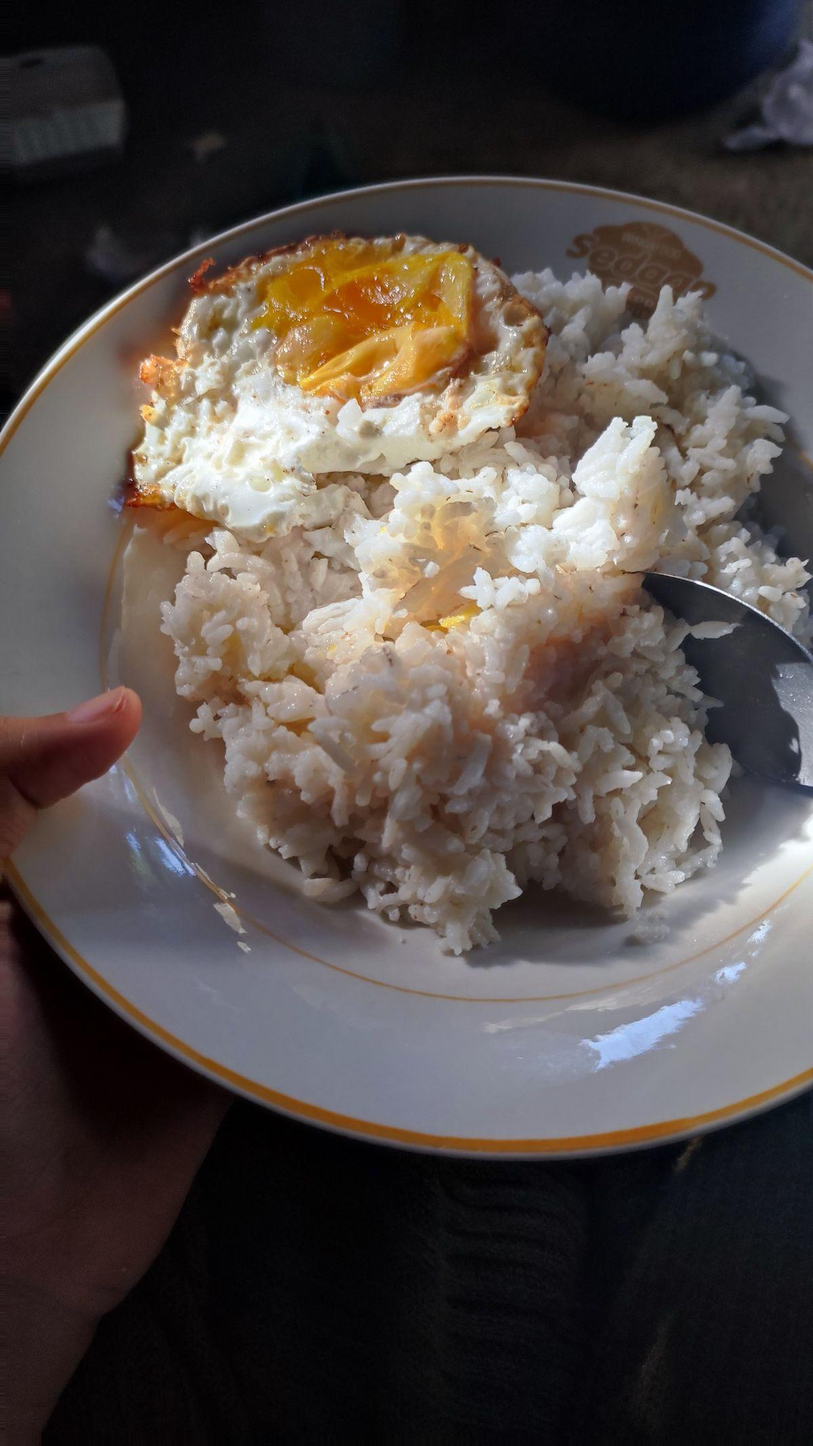makanan_berpati: (335, 520, 610, 816)
telur: (207, 286, 487, 447)
